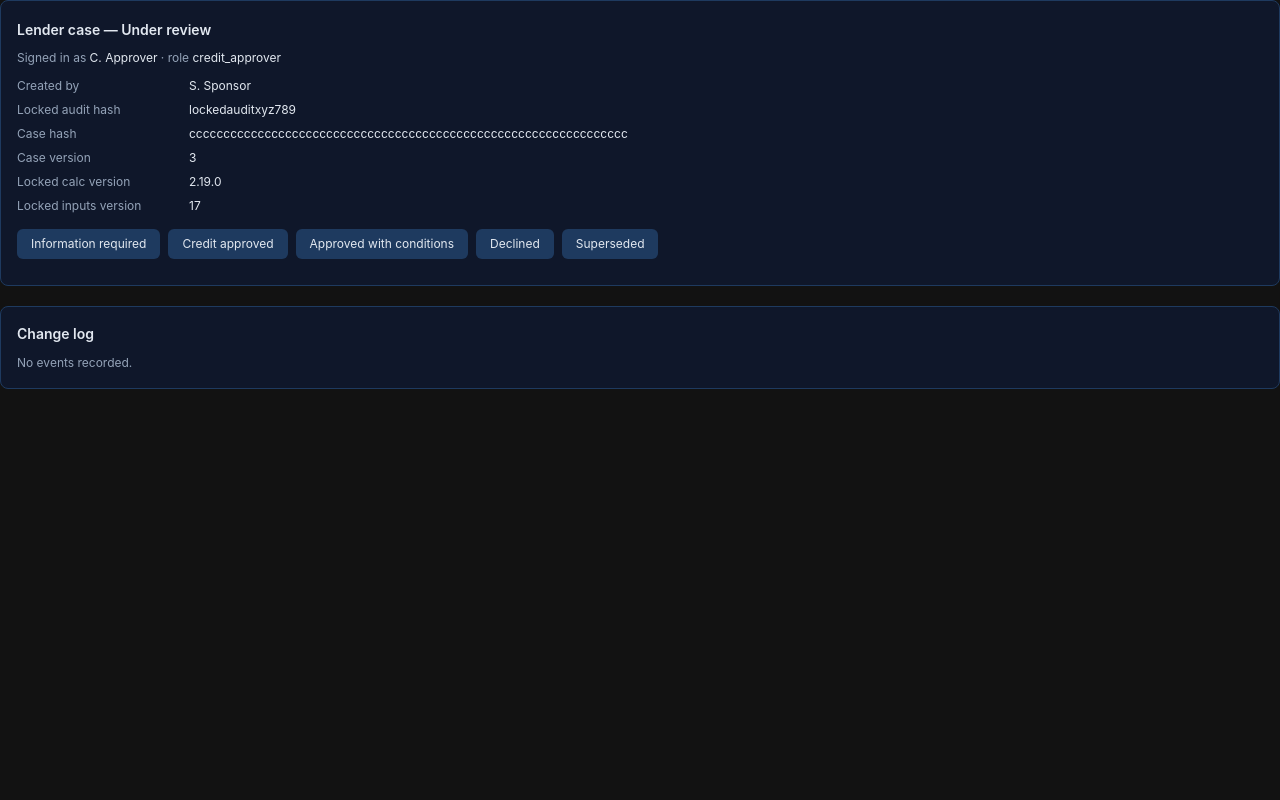
Test: LenderCasePage — the transition request › prints a server 403 verbatim
Expected: the text "Lender case — Under review" is shown, [17,21,211,38]
Click the button "Credit approved". click: coordinates (228, 244)
box: [168,229,288,259]
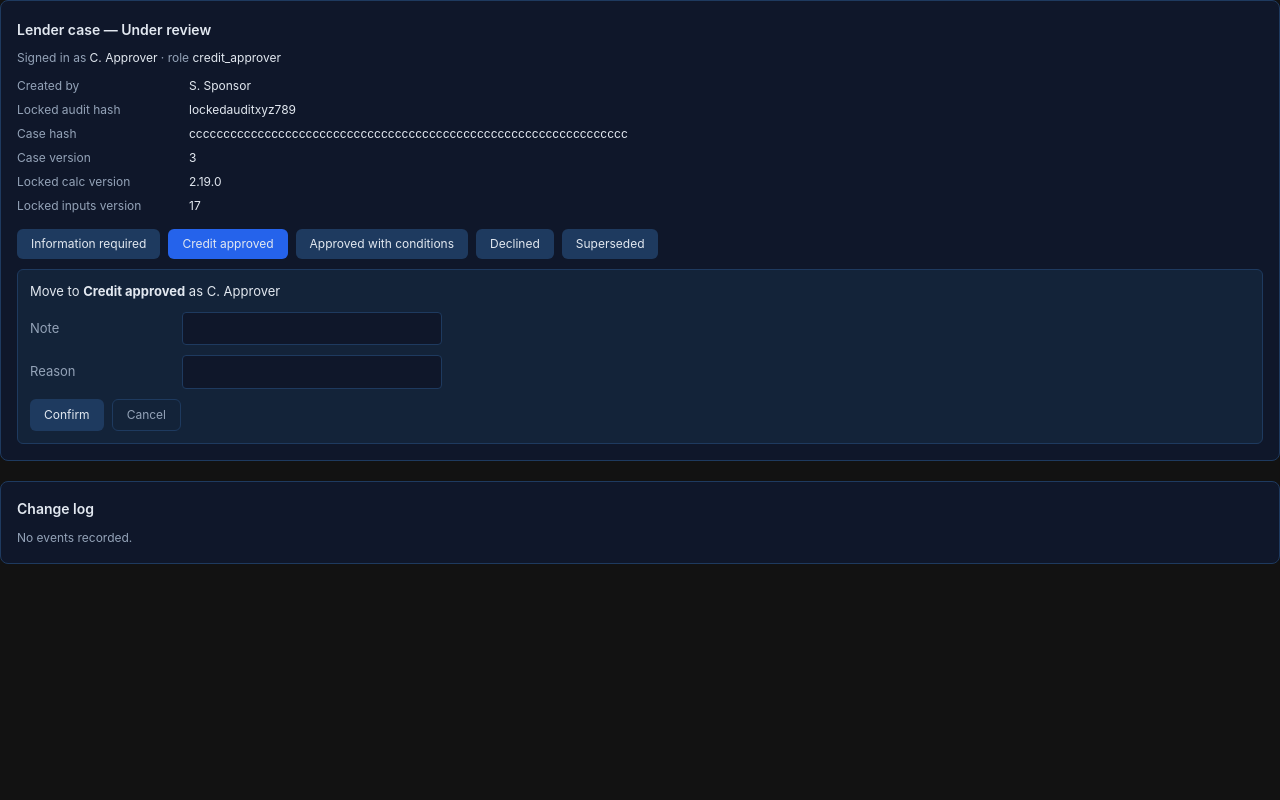
Click the button "Confirm". click: coordinates (67, 414)
box: [30,398,104,430]
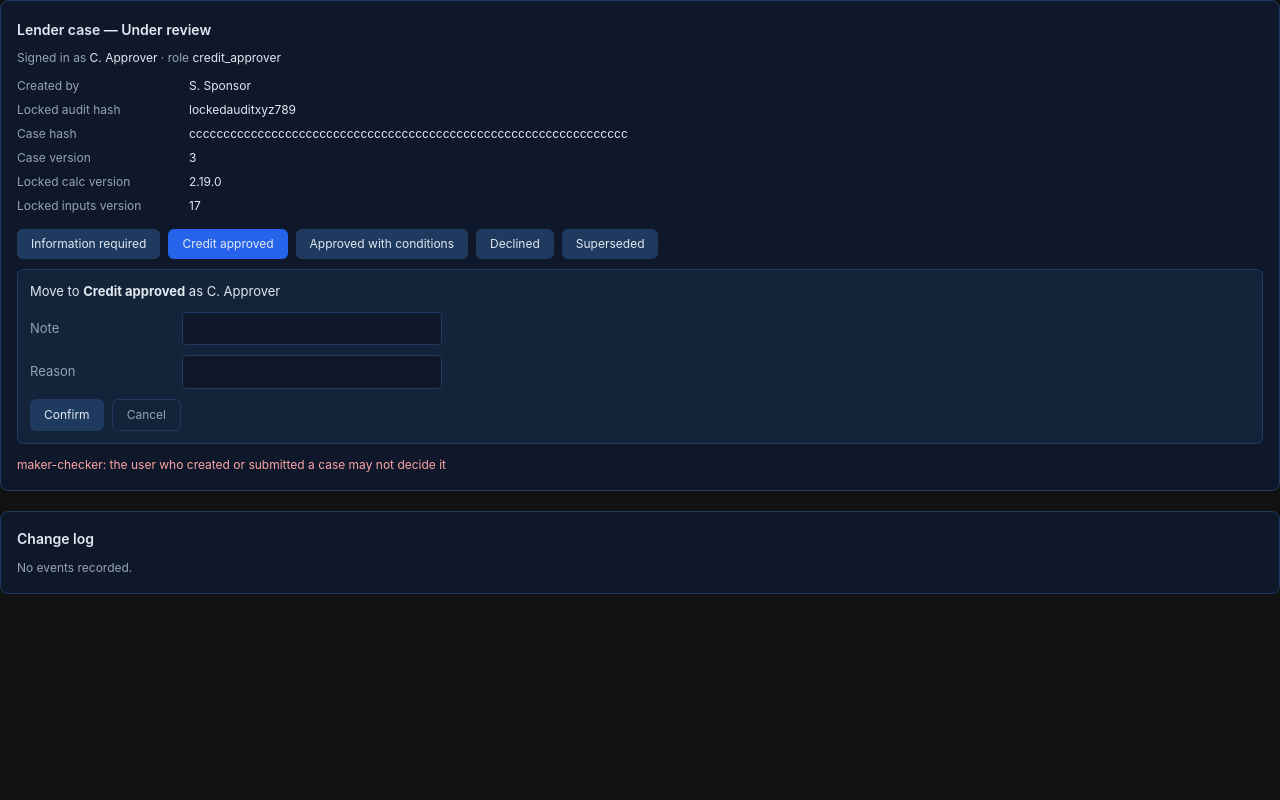
Now the message reads "maker-checker: the user who created or submitted a case may not decide it", box [17,456,446,472]
